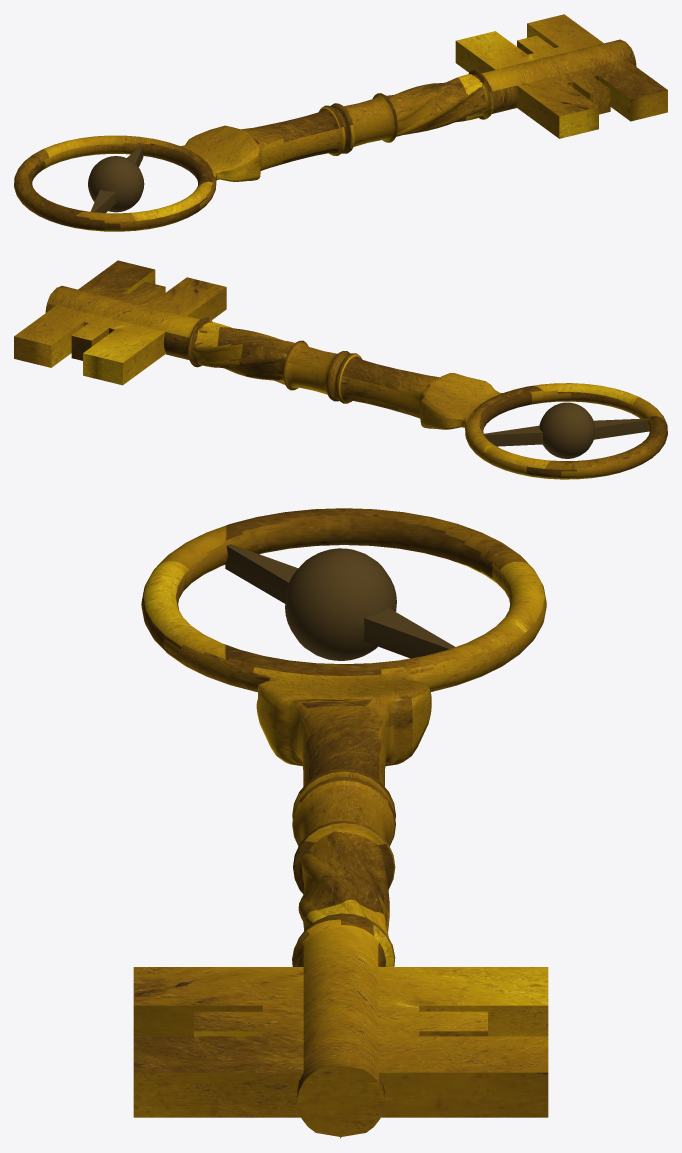
Rendered from GrandFatherClockKEY.fbx.
The picture shows the model from 3 angles, top to bottom: view 1: azimuth 30°, elevation 25°; view 2: azimuth 150°, elevation 25°; view 3: azimuth 270°, elevation 25°; orthographic projection. The views are drawn at different scales.
Visible parts, largest first — view 1: clock_key; view 2: clock_key; view 3: clock_key.
Part boxes in pixels (left/top/right/bottom): clock_key: left=14, top=14, right=667, bottom=231; clock_key: left=14, top=260, right=667, bottom=479; clock_key: left=133, top=508, right=548, bottom=1138.
Size of the model in its own units: 24.48 by 2 by 7.35.
2 materials, 1 textured.
